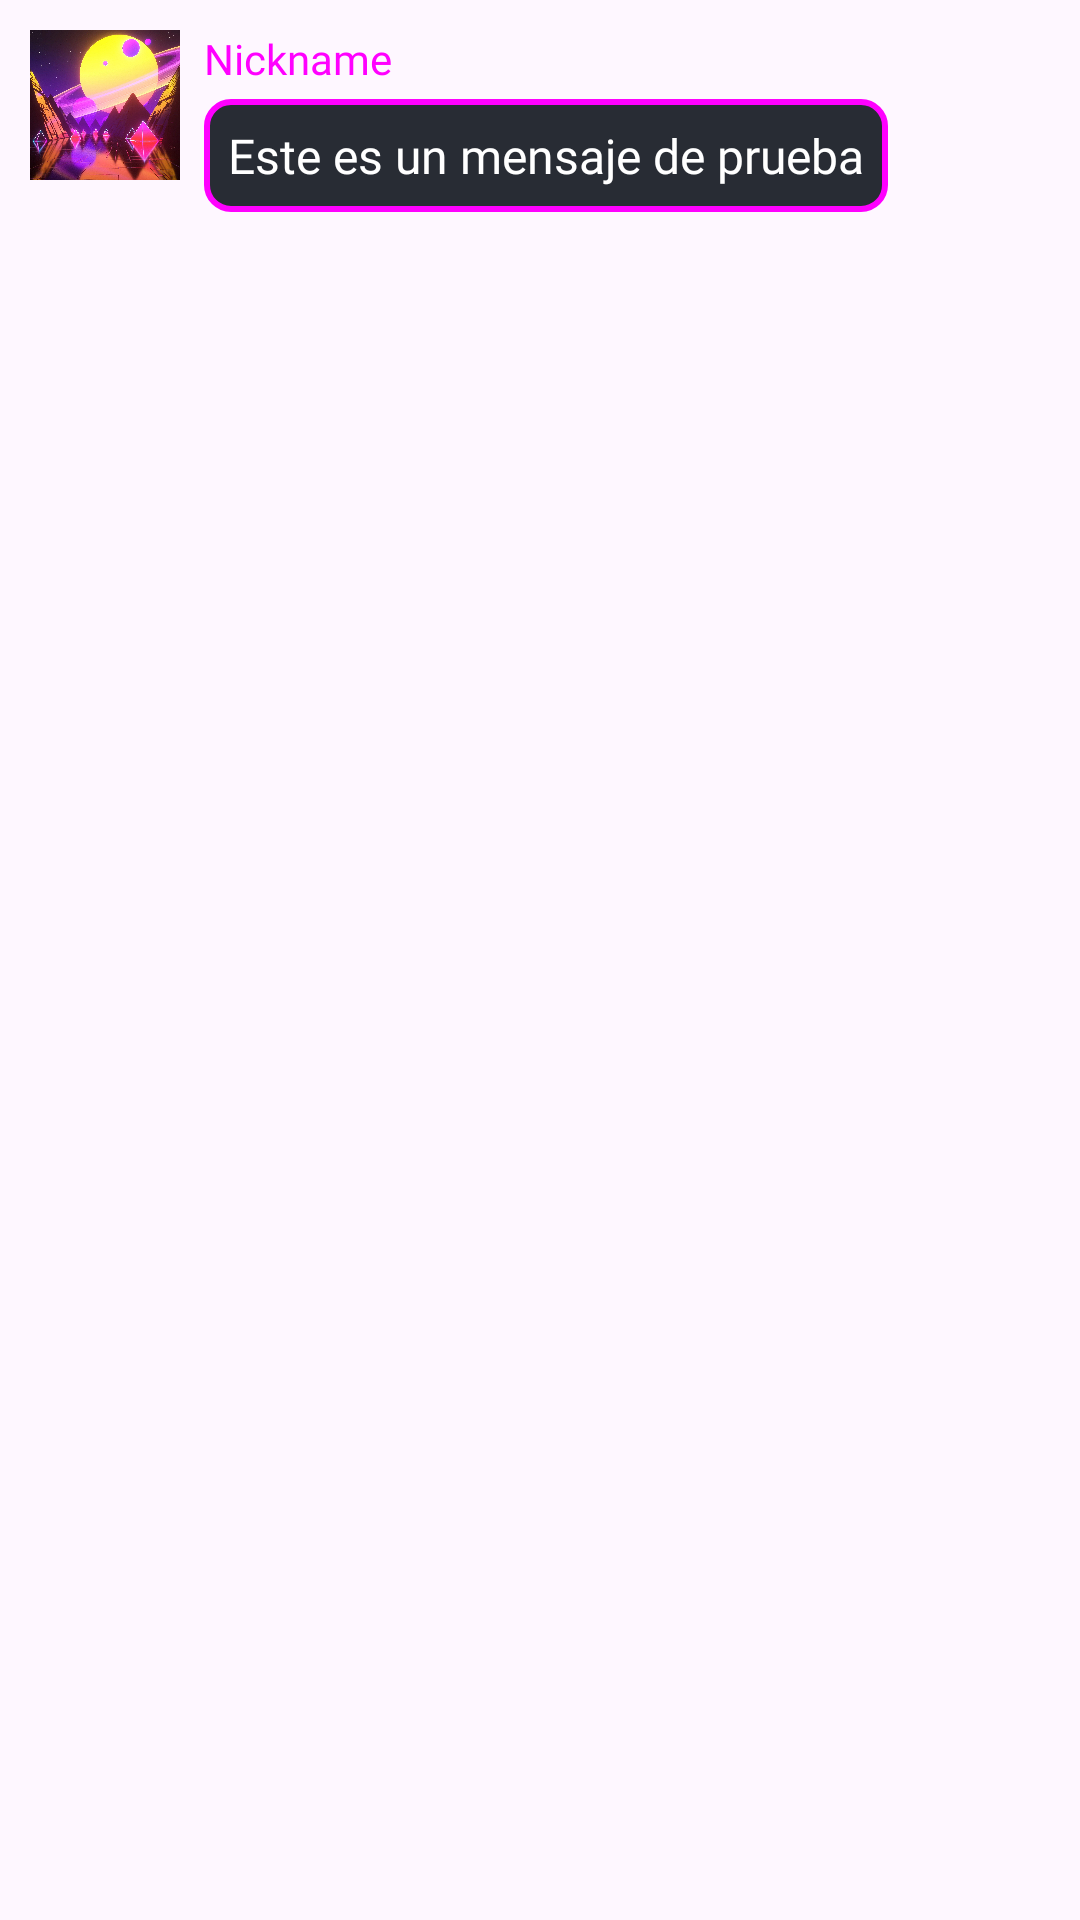

Screen size 1080 x 1920. Icon name, then its box in pixels as (x1, y1, x2, y2):
synthwave: (30, 30, 180, 180)
